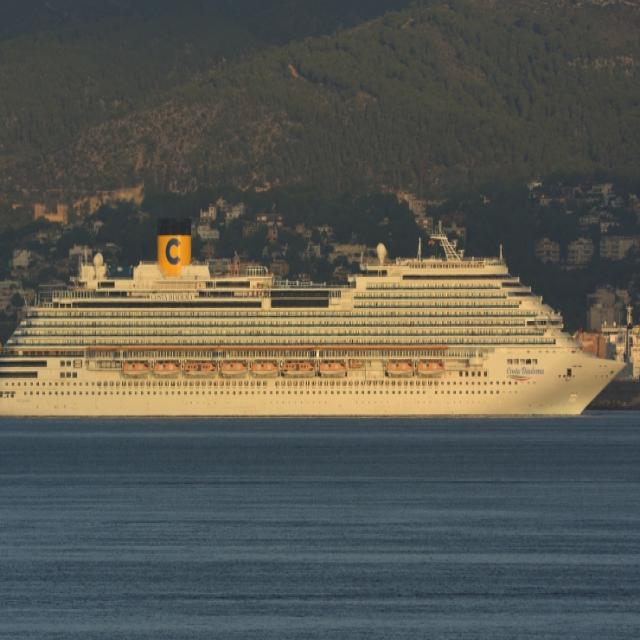cruises: (1, 207, 631, 433)
